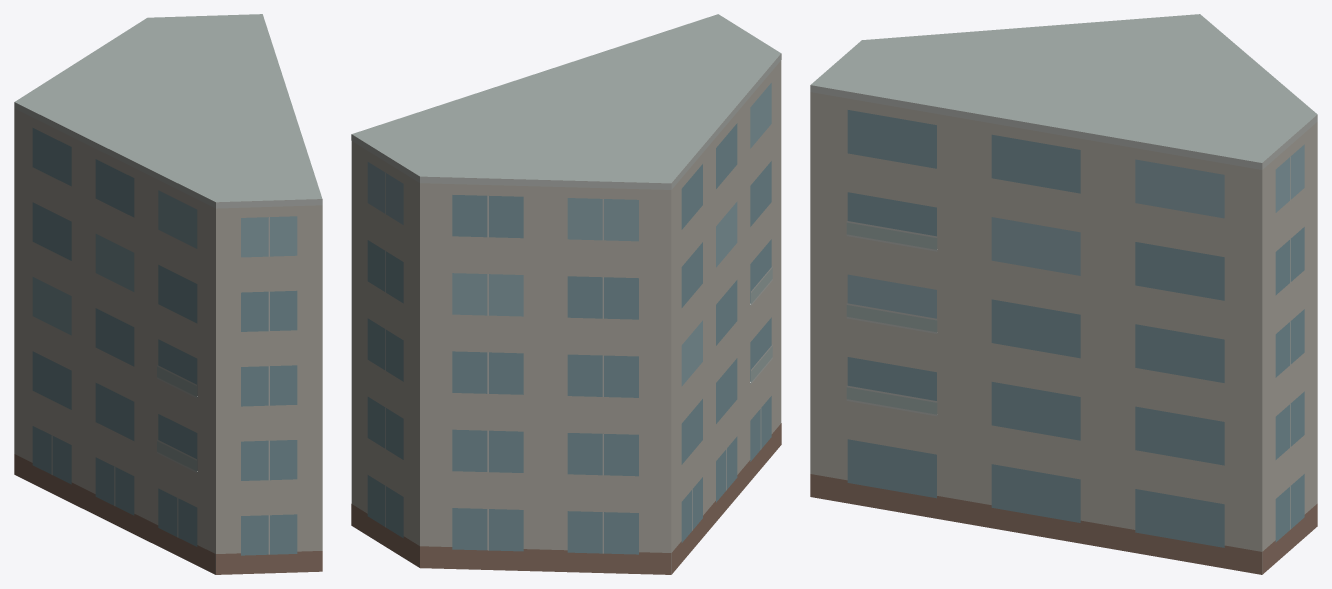
Rendered from survey-upis-32900330.glb.
3 views of the same model, side by side, from view 1: azimuth 30°, elevation 25°; view 2: azimuth 150°, elevation 25°; view 3: azimuth 270°, elevation 25° (orthographic). The views are drawn at different scales.
Visible parts, largest first — view 1: survey-upis-32900330.tmp; view 2: survey-upis-32900330.tmp; view 3: survey-upis-32900330.tmp.
Boxes of the visible parts, x1,y1,x2,y2 form: survey-upis-32900330.tmp: (14, 14, 322, 574); survey-upis-32900330.tmp: (351, 14, 781, 574); survey-upis-32900330.tmp: (810, 14, 1317, 574).
Bounding box in the file's own units: 11.19 × 14.4 × 16.09.
